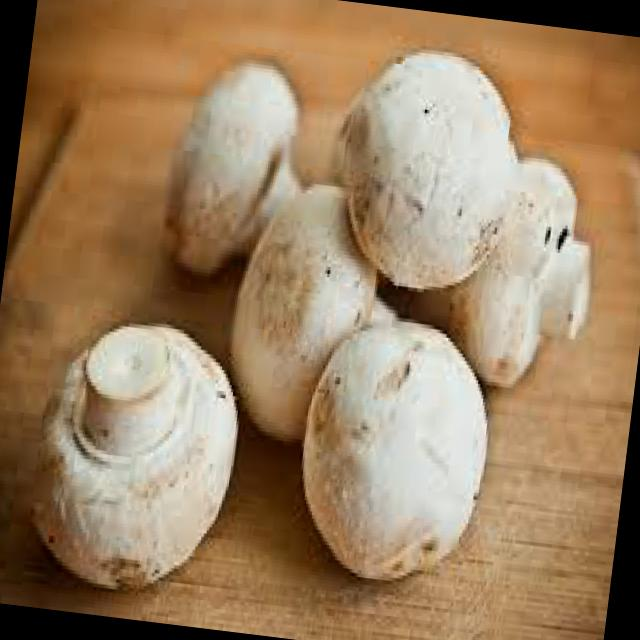Agaricus bisporus: (25, 310, 251, 598), (289, 306, 499, 590), (216, 172, 412, 440), (332, 38, 532, 297), (462, 142, 610, 390), (162, 55, 320, 266)
